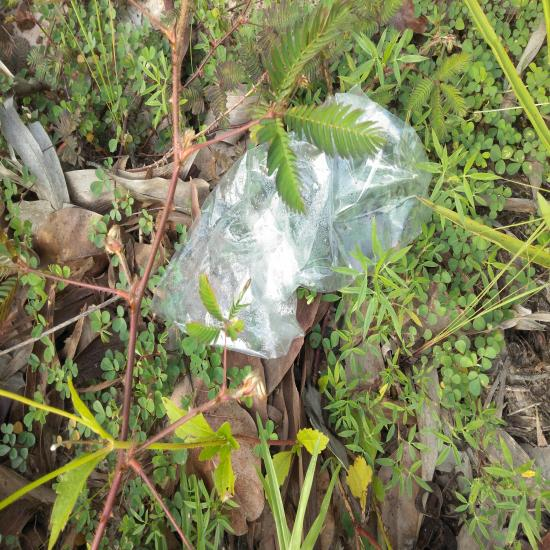Cigarette: (480, 119, 505, 159)
Other plastic: (127, 155, 405, 408)
Plastic film: (372, 124, 473, 278)
Unlabeled litter: (445, 369, 466, 393)
